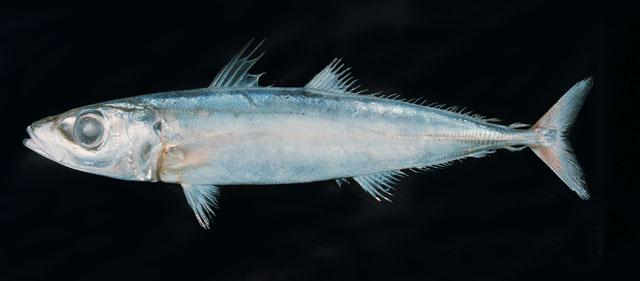Mulut: (18, 114, 54, 170)
Sirip Anal: (353, 151, 512, 203)
Sirip Dada: (168, 122, 268, 172)
Sirip Ekor: (523, 64, 611, 206)
Sirip Perut: (180, 175, 228, 235)
Sirip Punggung: (197, 27, 375, 109)
